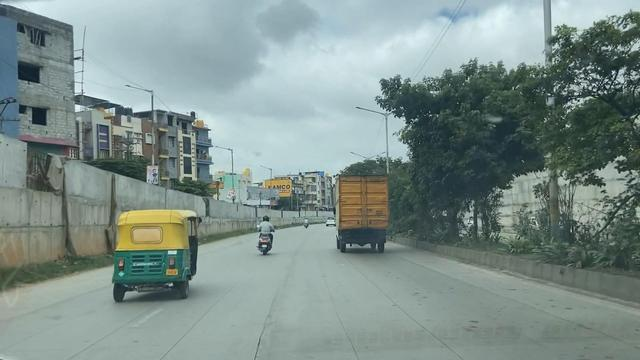HMV: (325, 162, 396, 265)
